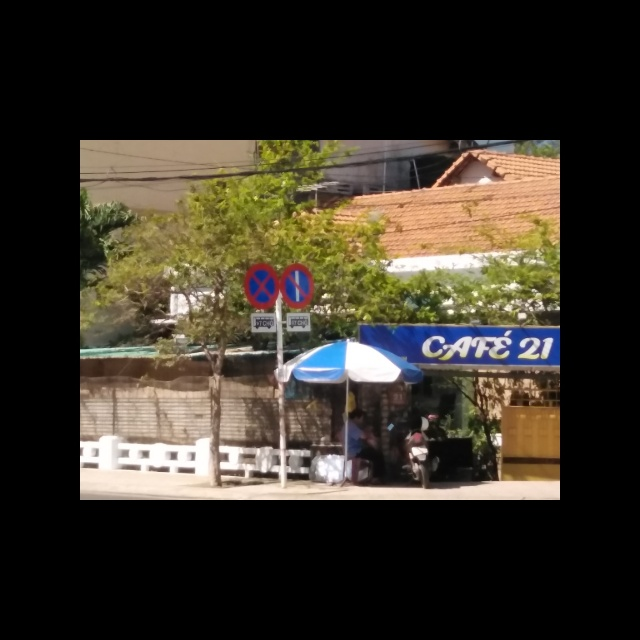Cấm dừng xe và đỗ xe: (244, 263, 279, 308)
Cấm đỗ xe ngày lẻ: (279, 265, 313, 310)
